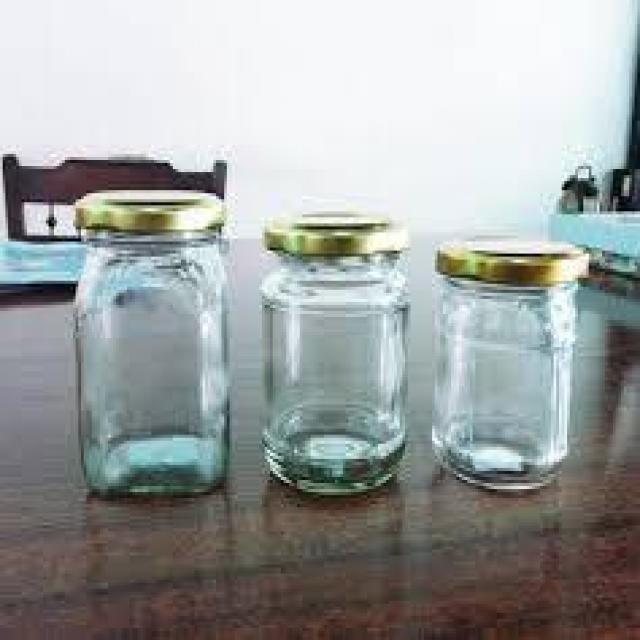glass: (70, 185, 232, 506)
